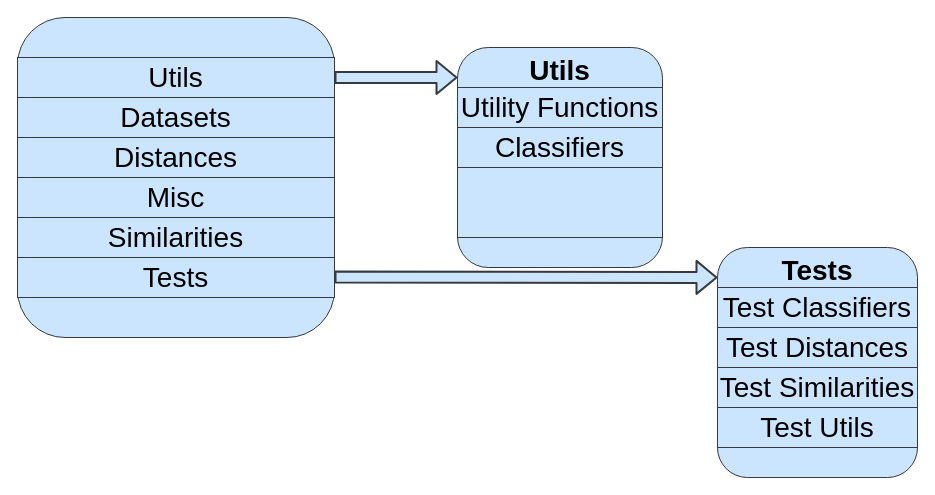
This 935x495 diagram has some shape labels left out. The shapes that lost their labels are listed below. From the top down, each one's box as (x1, y1, x2, y2) in pixels, then its label:
(16, 16, 334, 338): fsmpy
(456, 166, 662, 238): Image Processing
